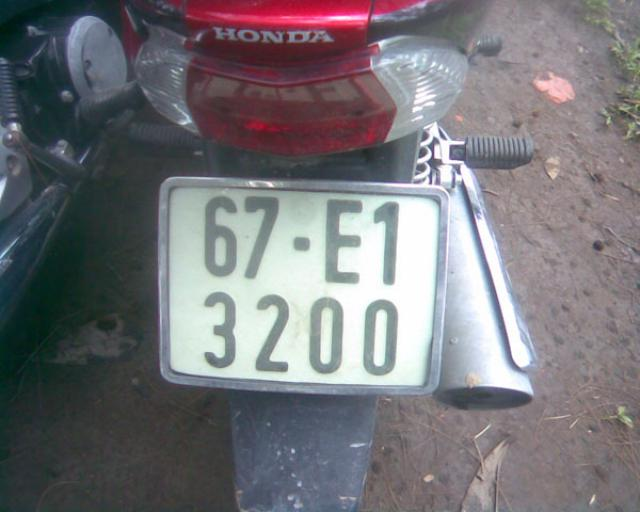plate: (166, 180, 434, 390)
